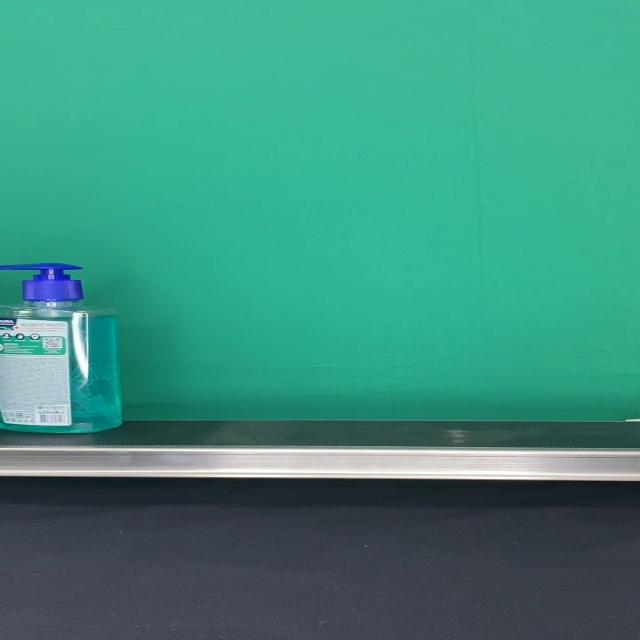Bottle: (0, 263, 122, 434)
Cap: (0, 262, 84, 301)
